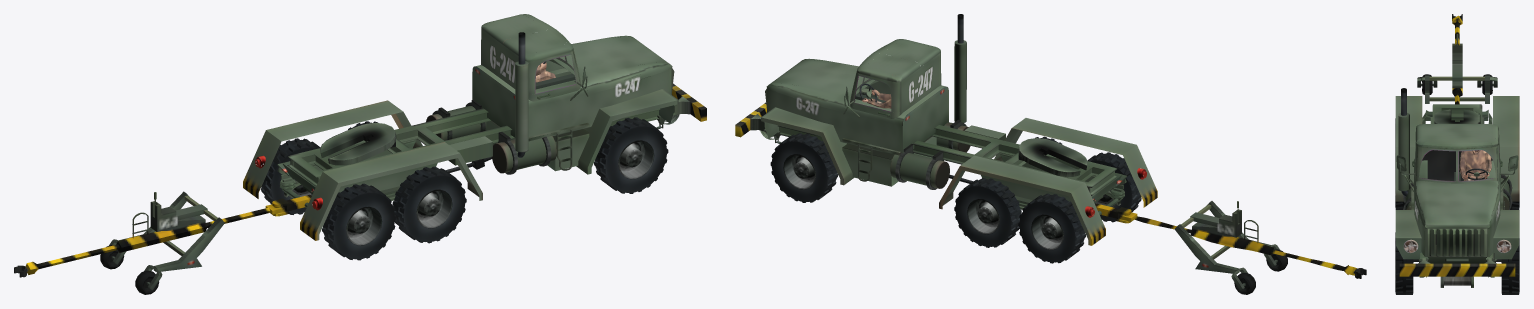
Rendered from military pushback.glb.
3 views of the same model, side by side, from view 1: azimuth 30°, elevation 25°; view 2: azimuth 150°, elevation 25°; view 3: azimuth 270°, elevation 25° (orthographic). The views are drawn at different scales.
Parts seen in each view (by area): view 1: Empty, Towbar, WheelRC, WheelRB, WheelRF, WheelLB; view 2: Empty, Towbar, WheelLC, WheelLB, WheelLF, WheelRB; view 3: Empty, Towbar, WheelRF, WheelLF, WheelRC, TowbarWheelR, TowbarWheelL.
Boxes of the visible parts, x1,y1,x2,y2 form: Empty: (243,14,706,240); Towbar: (14,191,284,290); WheelRC: (392,166,466,243); WheelRB: (322,183,396,260); WheelRF: (594,117,668,193); WheelLB: (261,138,320,214); Empty: (735,14,1157,245); Towbar: (1119,201,1366,290); WheelLC: (954,178,1021,247); WheelLB: (1018,193,1085,263); WheelLF: (770,133,838,202); WheelRB: (1087,152,1141,222); Empty: (1395,88,1519,287); Towbar: (1417,14,1497,104); WheelRF: (1395,232,1413,294); WheelLF: (1501,238,1519,294); WheelRC: (1395,148,1404,209); TowbarWheelR: (1422,74,1432,94); TowbarWheelL: (1482,74,1492,94).
Size of the model in its own units: 11.08 by 2.95 by 2.12.
Materials: 4 (3 with a texture image).
